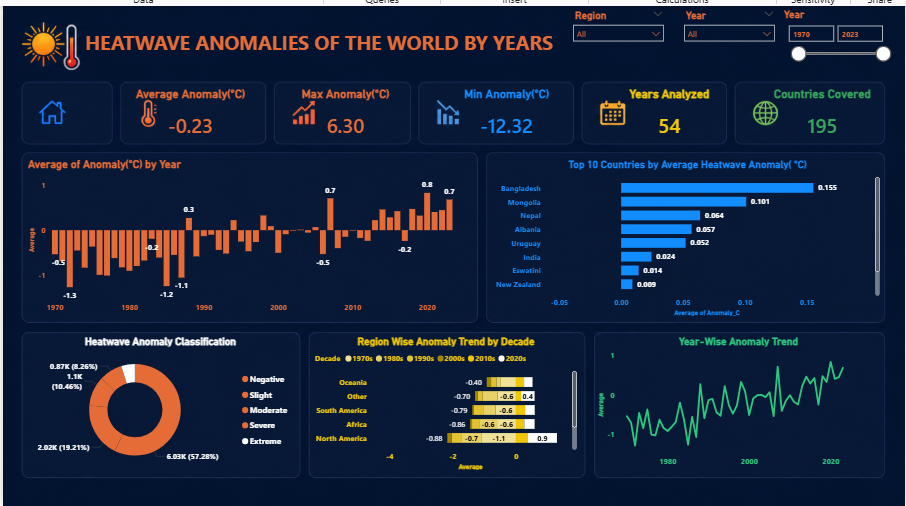

The page's visual inventory and layout, read from the dashboard file:
{"tool":"powerbi","page":{"name":"Page 1","canvas":[1480,820],"ordinal":0},"visuals":[{"type":"cardVisual","title":"Average Anomaly(°C)","fields":{"Data":["Avg(heatwave_clean_data.Anomaly_C)"]},"box":[208.3,132.8,198.4,100],"z":0},{"type":"cardVisual","title":"Max Anomaly(°C)","fields":{"Data":["Max(heatwave_clean_data.Anomaly_C)"]},"box":[462.5,132.8,198.4,100],"z":1000},{"type":"cardVisual","title":"Min Anomaly(°C)","fields":{"Data":["Min(heatwave_clean_data.Anomaly_C)"]},"box":[726.5,132.8,198.4,100],"z":2000},{"type":"cardVisual","title":"Years Analyzed","fields":{"Data":["Count(heatwave_clean_data.Year)"]},"box":[993.8,132.8,198.4,100],"z":3000},{"type":"cardVisual","title":"Countries Covered","fields":{"Data":["Count(heatwave_clean_data.Country)"]},"box":[1244.8,132.8,198.4,100],"z":4000},{"type":"clusteredColumnChart","title":"Average of Anomaly(°C)  by Year","fields":{"Category":["heatwave_clean_data.Year"],"Y":["Avg(heatwave_clean_data.Anomaly_C)"]},"box":[36.1,249.3,739.6,264],"z":5000},{"type":"clusteredBarChart","title":"Top 10 Countries by Average Heatwave Anomaly( °C)","fields":{"Category":["heatwave_clean_data.Country"],"Y":["Avg(heatwave_clean_data.Anomaly_C)"]},"box":[802,249.3,641.2,264],"z":6000},{"type":"donutChart","title":"Heatwave Anomaly Classification","fields":{"Category":["heatwave_clean_data.Classification"],"Y":["CountNonNull(heatwave_clean_data.Anomaly_C)"]},"box":[36.1,539.6,444.4,226.3],"z":7000},{"type":"lineChart","title":"Year-Wise Anomaly Trend","fields":{"Category":["heatwave_clean_data.Year"],"Y":["Avg(heatwave_clean_data.Anomaly_C)"]},"box":[969.2,539.6,474,226.3],"z":8000},{"type":"barChart","title":"Region Wise Anomaly Trend by Decade","fields":{"Category":["heatwave_clean_data.Region"],"Y":["Avg(heatwave_clean_data.Anomaly_C)"],"Series":["heatwave_clean_data.Decade"]},"box":[506.8,539.6,439.5,226.3],"z":9000},{"type":"textbox","box":[129.6,32.8,795.4,75.4],"z":9001},{"type":"slicer","fields":{"Values":["heatwave_clean_data.Region"]},"box":[925,0,168.9,108.2],"z":9002},{"type":"slicer","fields":{"Values":["heatwave_clean_data.Year"]},"box":[1107,0,168.9,108.2],"z":9003},{"type":"slicer","title":"Year","fields":{"Values":["heatwave_clean_data.Year"]},"box":[1275.9,3.3,188.6,105],"z":9004}]}

Visuals, with their boxes on the page's 1480x820 design canvas (x1, y1, x2, y2). These are canvas units, not pixel positions in the 906x506 screenshot, which may show the page scaled, cropped or inside an application window:
"Average Anomaly(°C)" cardVisual: l=208, t=133, r=407, b=233
"Max Anomaly(°C)" cardVisual: l=462, t=133, r=661, b=233
"Min Anomaly(°C)" cardVisual: l=726, t=133, r=925, b=233
"Years Analyzed" cardVisual: l=994, t=133, r=1192, b=233
"Countries Covered" cardVisual: l=1245, t=133, r=1443, b=233
"Average of Anomaly(°C)  by Year" clusteredColumnChart: l=36, t=249, r=776, b=513
"Top 10 Countries by Average Heatwave Anomaly( °C)" clusteredBarChart: l=802, t=249, r=1443, b=513
"Heatwave Anomaly Classification" donutChart: l=36, t=540, r=480, b=766
"Year-Wise Anomaly Trend" lineChart: l=969, t=540, r=1443, b=766
"Region Wise Anomaly Trend by Decade" barChart: l=507, t=540, r=946, b=766
textbox: l=130, t=33, r=925, b=108
slicer - heatwave_clean_data.Region: l=925, t=0, r=1094, b=108
slicer - heatwave_clean_data.Year: l=1107, t=0, r=1276, b=108
"Year" slicer: l=1276, t=3, r=1464, b=108
